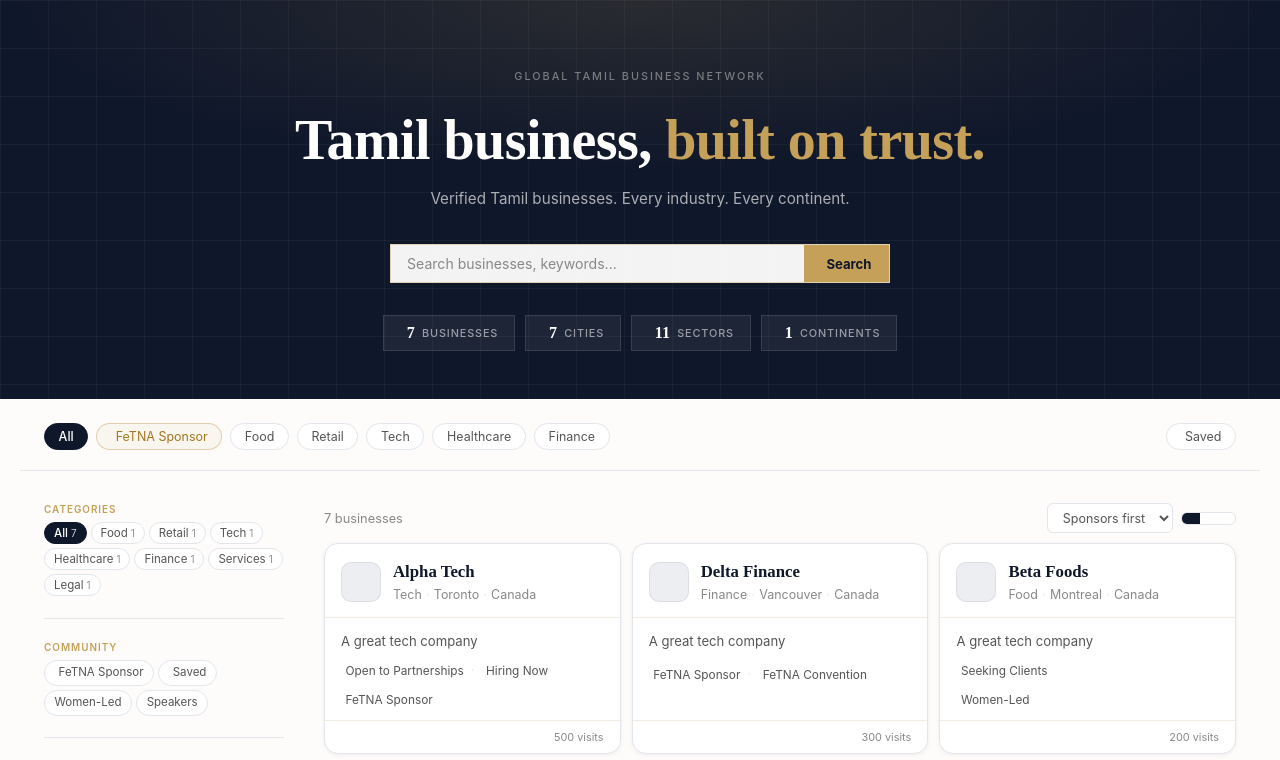
Test: DirectoryClient — Pro filter › shows only Pro businesses when Pro is selected
Click the button "FeTNA Sponsor" below "Community": x=99, y=673 44,660 -> 154,686
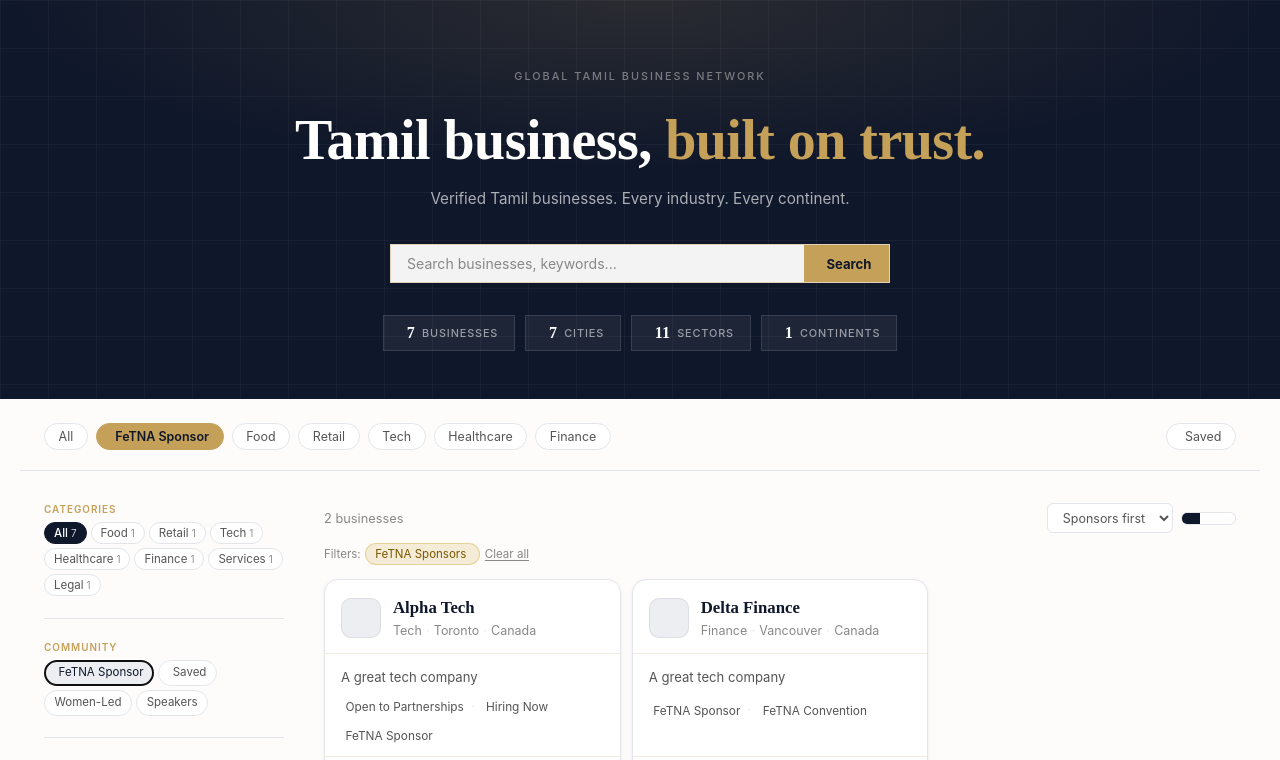
Expected: the text "2 businesses" is shown, 324,511 -> 403,526
